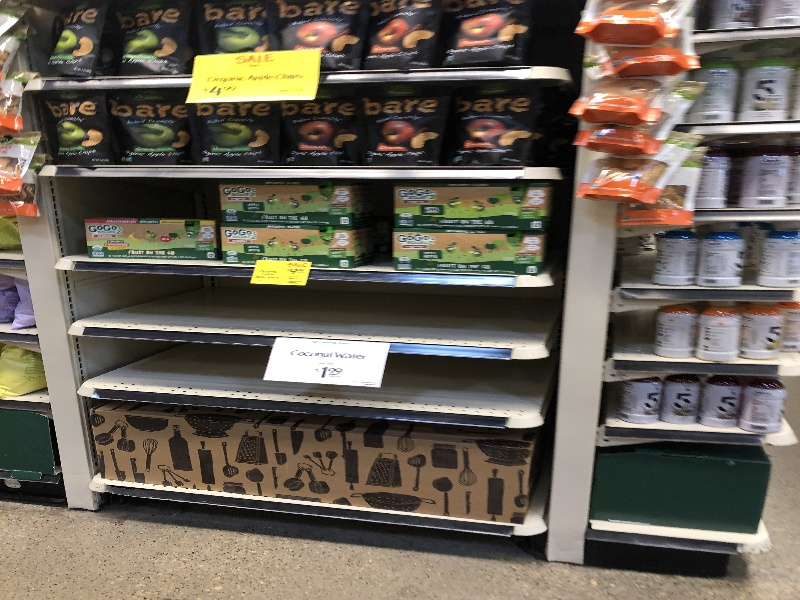void: (58, 269, 551, 353), (66, 335, 549, 417)
